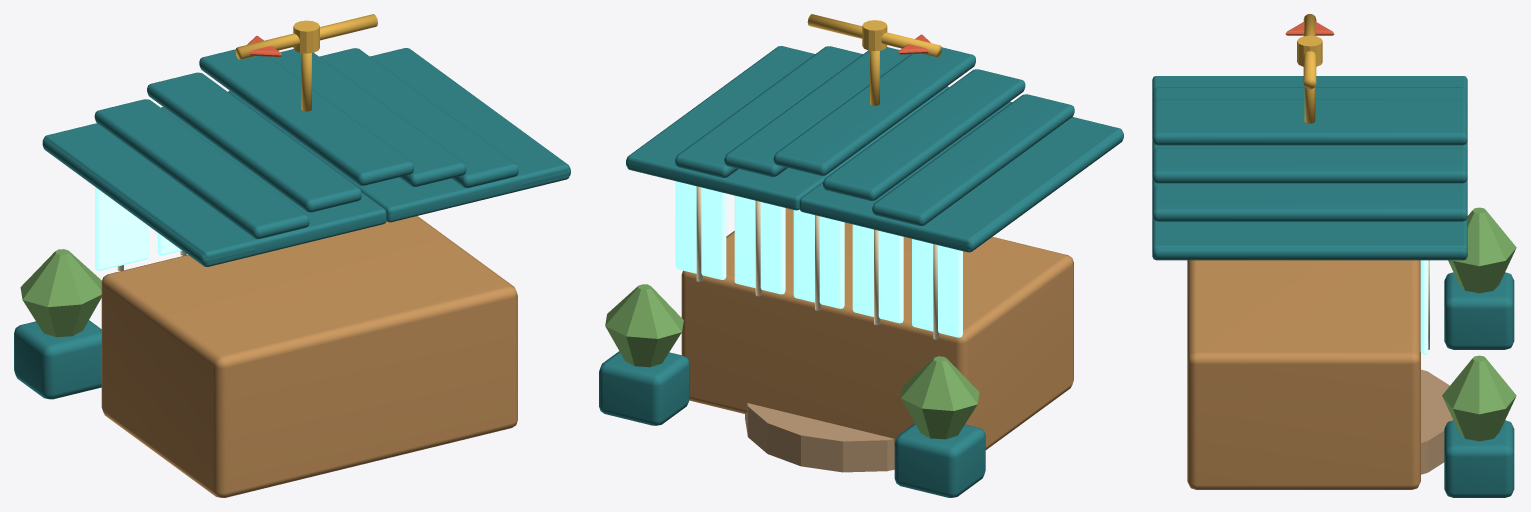
File: orchard-greenhouse.glb
The picture shows the model from 3 angles, left to right: view 1: azimuth 30°, elevation 25°; view 2: azimuth 150°, elevation 25°; view 3: azimuth 270°, elevation 25°; orthographic projection. The views are drawn at different scales.
Visible parts, largest first — view 1: Structure, AnimatedDetail; view 2: Structure, AnimatedDetail; view 3: Structure, AnimatedDetail.
Part boxes in pixels (x1=…): Structure: x1=14, y1=48, x2=570, y2=497; AnimatedDetail: x1=235, y1=14, x2=377, y2=59; Structure: x1=599, y1=46, x2=1123, y2=497; AnimatedDetail: x1=807, y1=14, x2=941, y2=57; Structure: x1=1152, y1=76, x2=1516, y2=497; AnimatedDetail: x1=1285, y1=14, x2=1334, y2=89.
Bounding box in the file's own units: 3.76 × 3.75 × 3.12.
